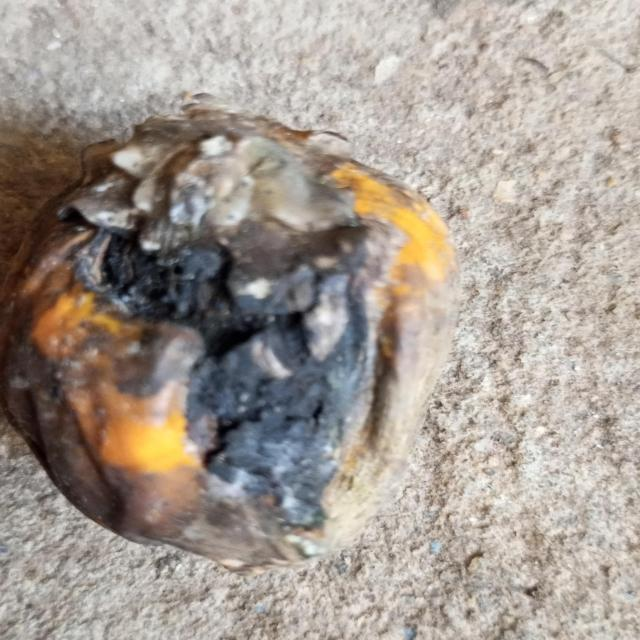damaged: (0, 93, 458, 574)
